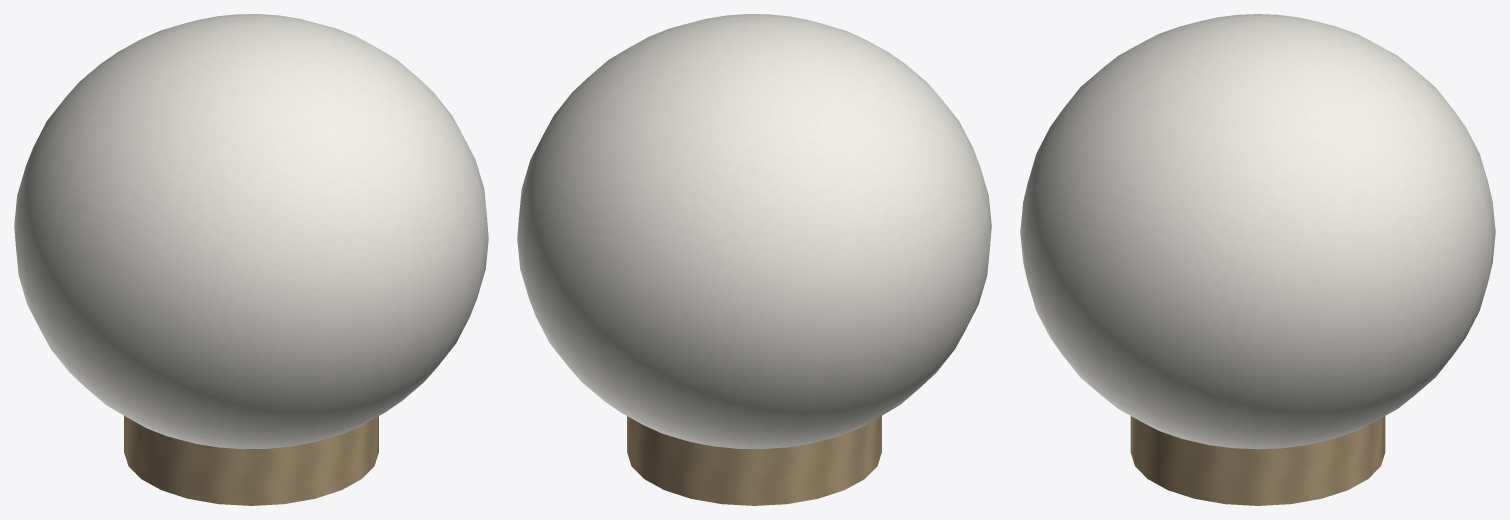
File: fado.glb
The picture shows the model from 3 angles, left to right: view 1: azimuth 30°, elevation 25°; view 2: azimuth 150°, elevation 25°; view 3: azimuth 270°, elevation 25°; orthographic projection.
Parts seen in each view (by area): view 1: FADO Globe table lamp; view 2: FADO Globe table lamp; view 3: FADO Globe table lamp.
Part boxes in pixels (box(x1,y1,x2,y2)): FADO Globe table lamp: box(14, 14, 488, 505); FADO Globe table lamp: box(517, 14, 991, 505); FADO Globe table lamp: box(1020, 14, 1495, 505).
Bounding box in the file's own units: 0.25 × 0.24 × 0.25.
2 materials, 2 textured.
